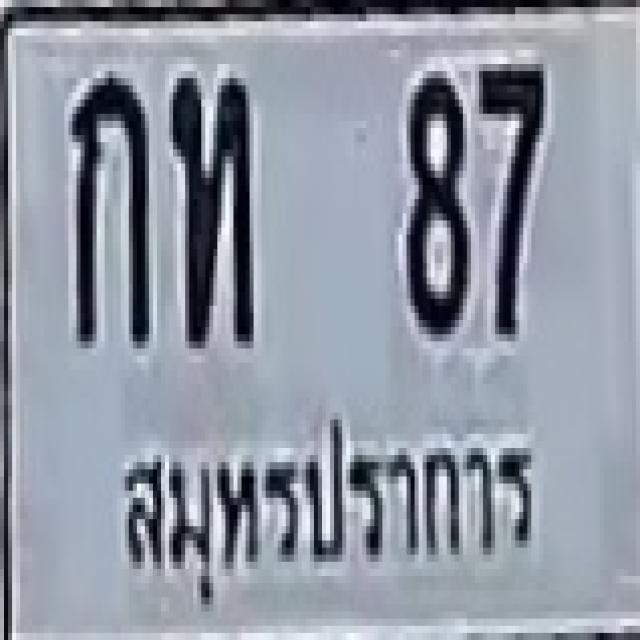-: (169, 71, 250, 341), (68, 71, 145, 341)
7: (475, 61, 539, 330)
8: (402, 64, 463, 327)
SPK: (104, 396, 544, 622)
